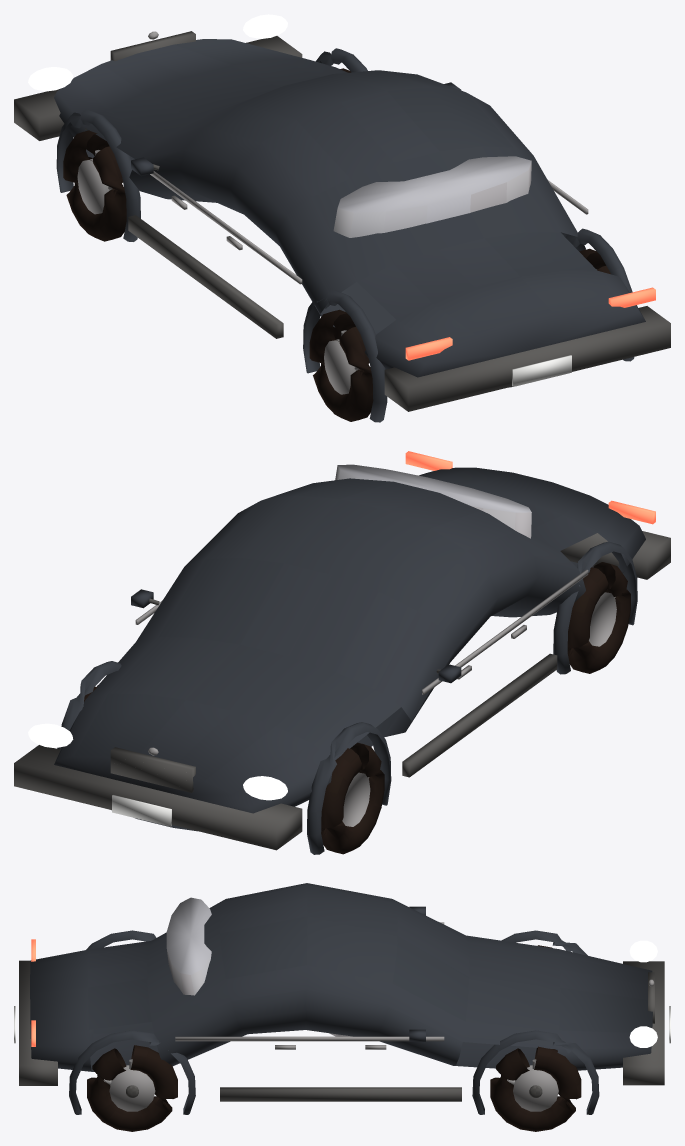
The model's file is sport2.glb.
The picture shows the model from 3 angles, top to bottom: view 1: azimuth 30°, elevation 25°; view 2: azimuth 150°, elevation 25°; view 3: azimuth 270°, elevation 25°; orthographic projection. The views are drawn at different scales.
Visible parts, largest first — view 1: Body, WheelRL, WheelFL; view 2: Body, WheelFL, WheelRL; view 3: Body, WheelRR, WheelFR.
Boxes of the visible parts, bbox=[...] form: Body: bbox=[14, 14, 670, 422]; WheelRL: bbox=[309, 309, 373, 421]; WheelFL: bbox=[63, 130, 126, 241]; Body: bbox=[14, 451, 670, 854]; WheelFL: bbox=[321, 742, 384, 854]; WheelRL: bbox=[567, 562, 630, 673]; Body: bbox=[14, 883, 670, 1114]; WheelRR: bbox=[87, 1045, 177, 1131]; WheelFR: bbox=[490, 1046, 581, 1131].
Size of the model in its own units: 2.17 by 1.38 by 4.72.
9 materials, 6 textured.
